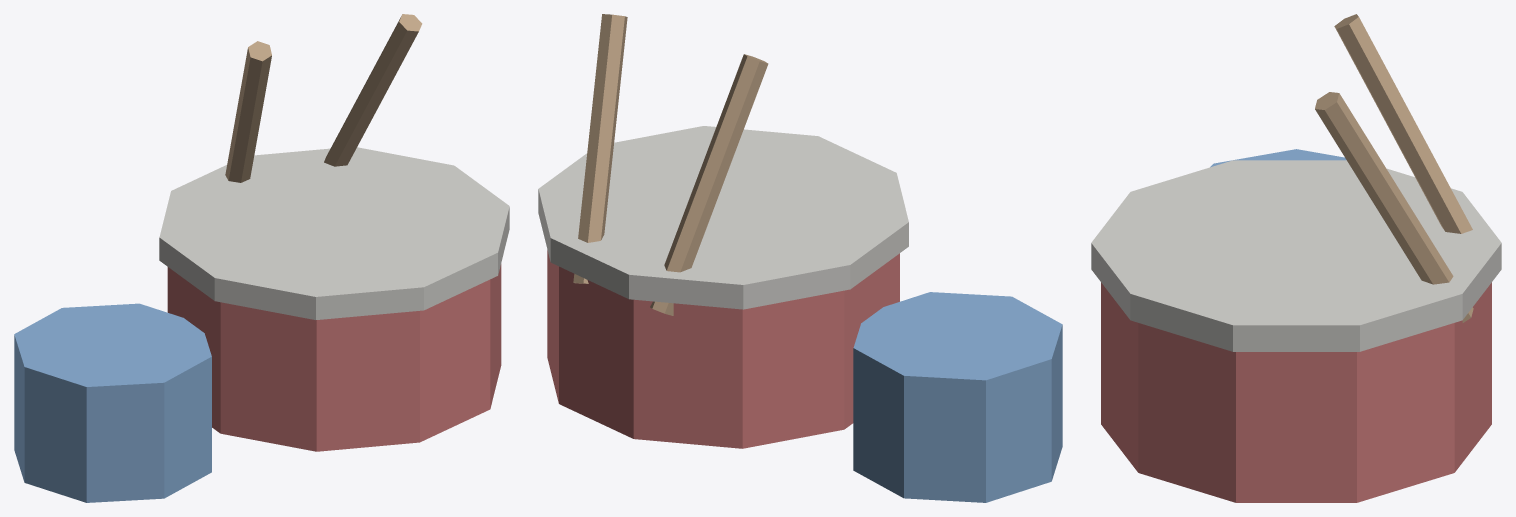
The model's file is kid_bateria.glb.
3 views of the same model, side by side, from view 1: azimuth 30°, elevation 25°; view 2: azimuth 150°, elevation 25°; view 3: azimuth 270°, elevation 25° (orthographic). The views are drawn at different scales.
Parts seen in each view (by area): view 1: KID_BATERIA_v01; view 2: KID_BATERIA_v01; view 3: KID_BATERIA_v01.
Part boxes in pixels (x1=…): KID_BATERIA_v01: x1=14, y1=14, x2=509, y2=502; KID_BATERIA_v01: x1=538, y1=14, x2=1062, y2=502; KID_BATERIA_v01: x1=1091, y1=14, x2=1501, y2=502.
Size of the model in its own units: 0.6197 by 0.4638 by 0.42.
